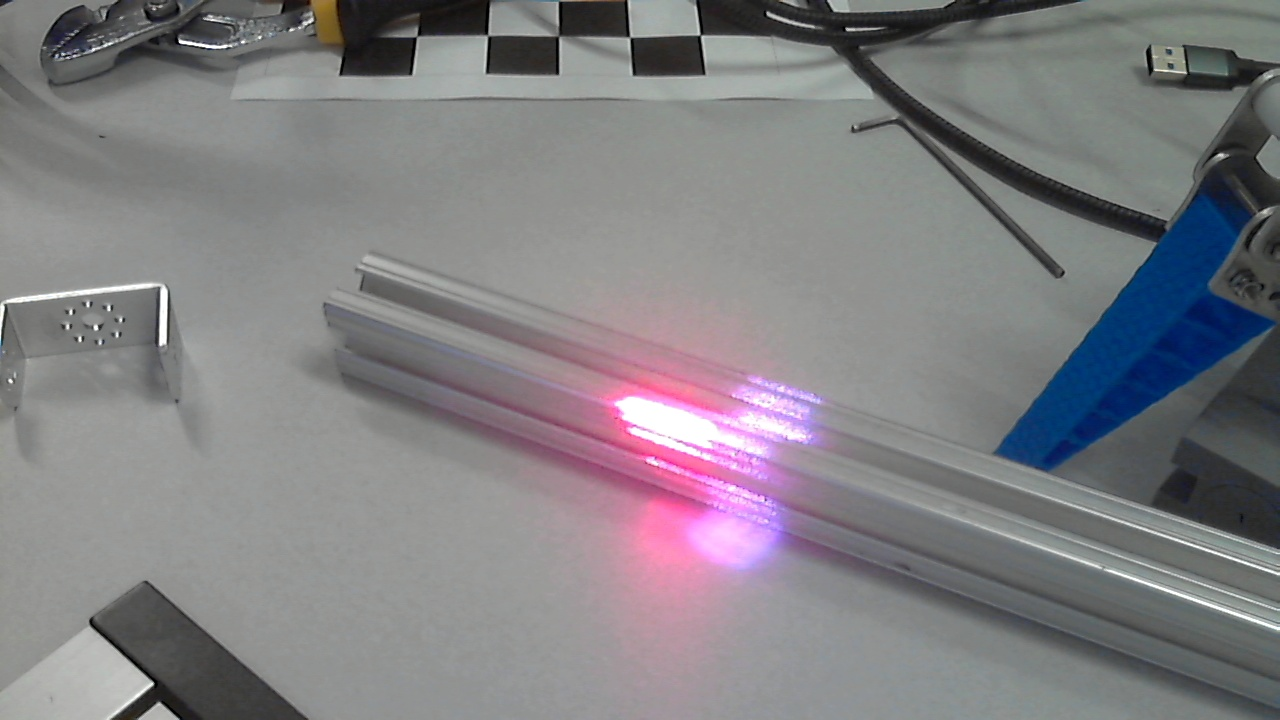Object - extruded aluminum profile - Material metal - Pdfname IJiB5jbMhrV7: (562, 317, 834, 514)
